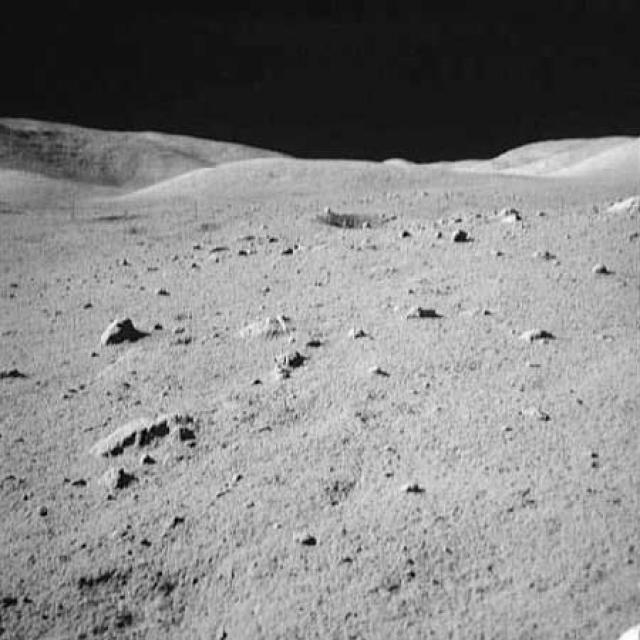crater: (318, 207, 550, 234)
rock: (94, 407, 198, 459), (97, 312, 138, 345), (96, 458, 136, 489), (270, 341, 306, 369), (518, 322, 558, 346), (404, 305, 443, 321), (448, 227, 469, 247), (344, 326, 366, 340), (152, 282, 171, 297)
